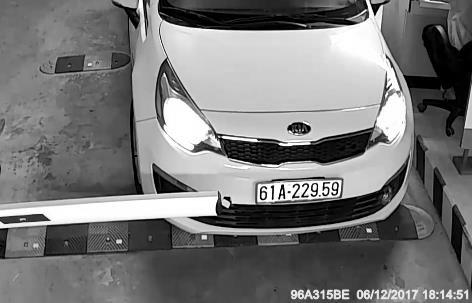License-plate: (255, 175, 348, 213)
